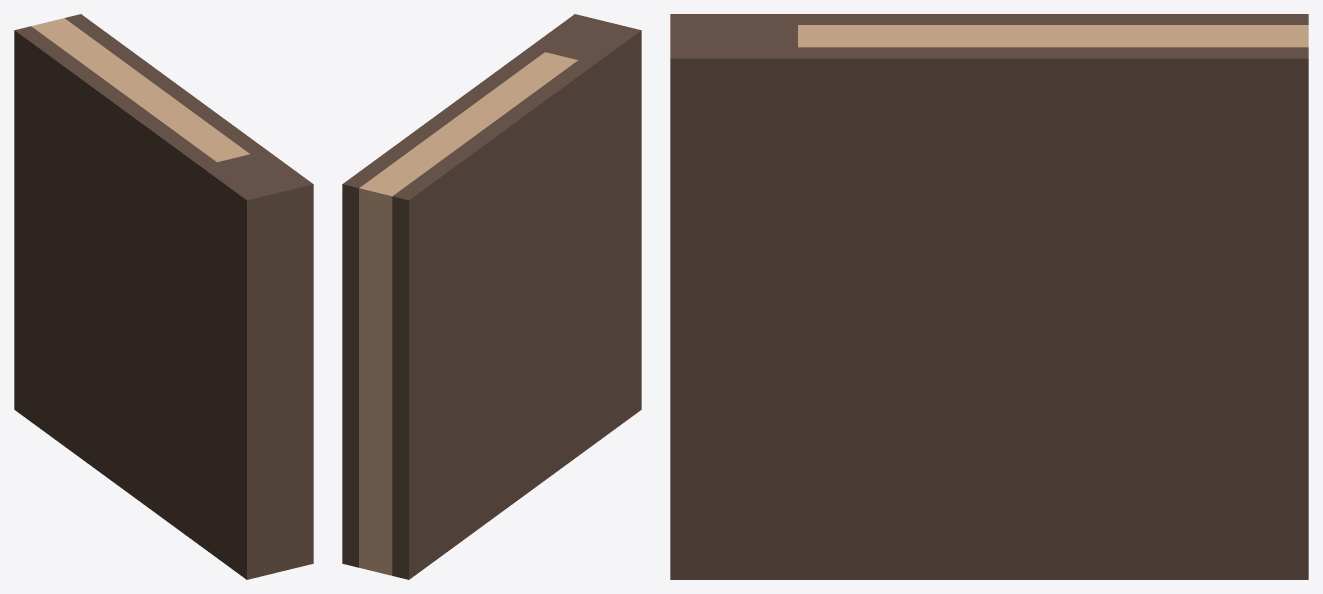
Rendered from livre8.fbx.
3 renders of one model, left to right at view 1: azimuth 30°, elevation 25°; view 2: azimuth 150°, elevation 25°; view 3: azimuth 270°, elevation 25°, orthographic. The views are drawn at different scales.
Visible parts, largest first — view 1: Livre 8; view 2: Livre 8; view 3: Livre 8.
Boxes of the visible parts, box(x1,y1,x2,y2) form: Livre 8: box(14, 14, 313, 579); Livre 8: box(342, 14, 641, 579); Livre 8: box(670, 14, 1308, 579).
Size of the model in its own units: 4 by 21.8 by 24.2.
1 material, 1 textured.
